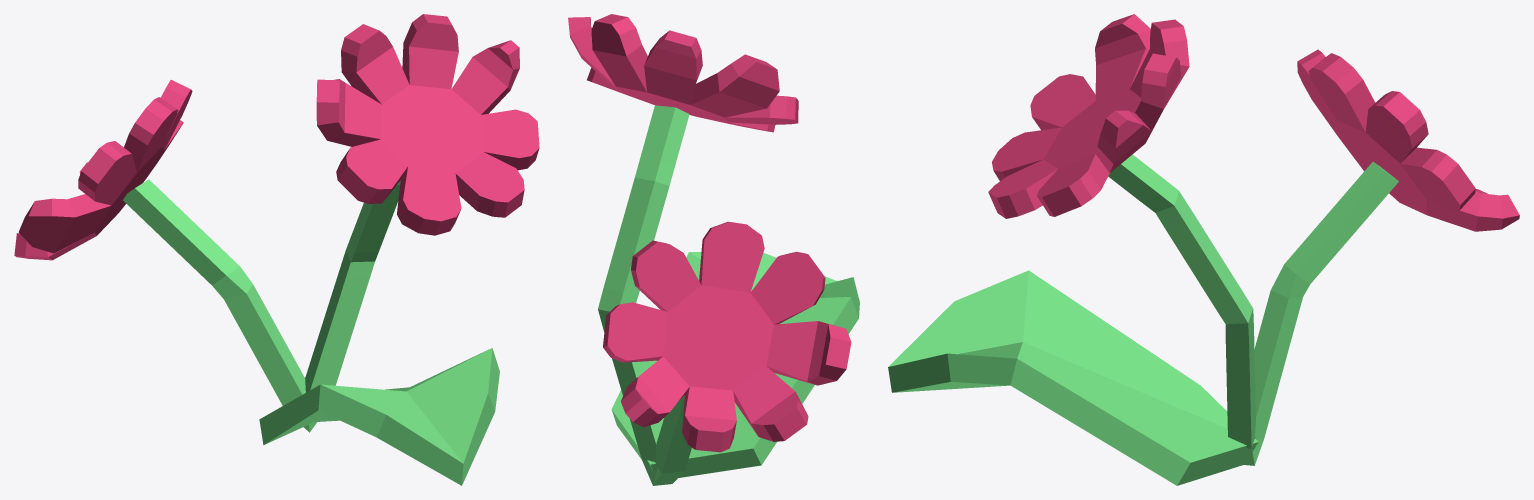
File: Blomst.fbx
3 views of the same model, side by side, from view 1: azimuth 30°, elevation 25°; view 2: azimuth 150°, elevation 25°; view 3: azimuth 270°, elevation 25° (orthographic). The views are drawn at different scales.
Parts seen in each view (by area): view 1: blomst, stilk, blad, blomst lille; view 2: blomst lille, blomst, stilk, blad; view 3: blad, blomst, stilk, blomst lille.
Boxes of the visible parts, x1,y1,x2,y2 form: blomst: (316,14,539,235); stilk: (123,179,400,432); blad: (259,348,499,485); blomst lille: (14,80,192,260); blomst lille: (603,221,851,452); blomst: (568,14,798,132); stilk: (598,105,691,485); blad: (611,251,859,477); blad: (888,270,1258,485); blomst: (988,14,1189,218); stilk: (1108,154,1398,465); blomst lille: (1297,49,1519,231).
Bounding box in the file's own units: 35.82 × 36.78 × 46.4.
